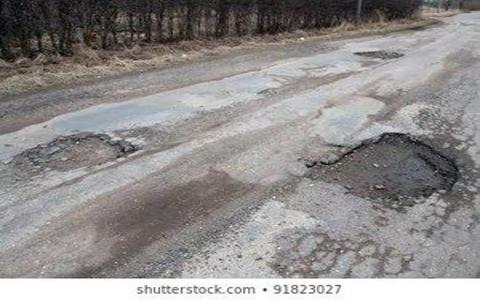patchy roads: (216, 58, 471, 262), (7, 106, 180, 251)
